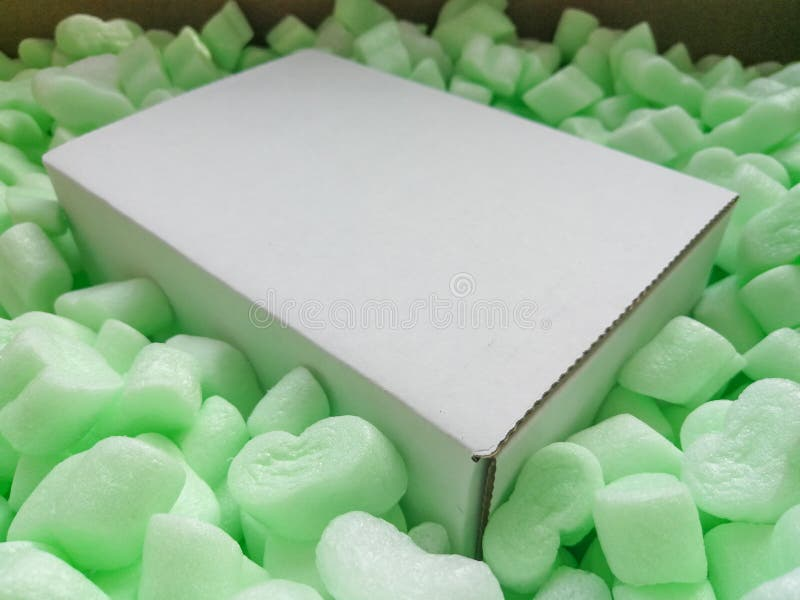Boxes: (45, 52, 735, 538)
